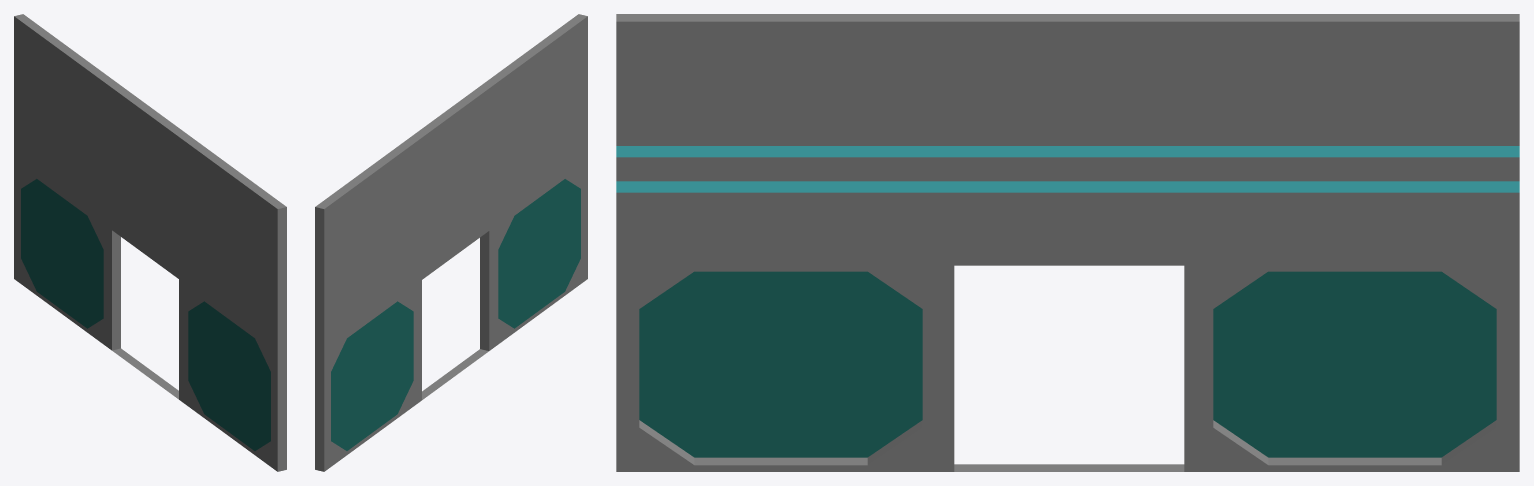
The model's file is parede-LAB1.fbx.
The picture shows the model from 3 angles, left to right: view 1: azimuth 30°, elevation 25°; view 2: azimuth 150°, elevation 25°; view 3: azimuth 270°, elevation 25°; orthographic projection. The views are drawn at different scales.
Parts seen in each view (by area): view 1: Cube.001; view 2: Cube.001; view 3: Cube.001.
Part boxes in pixels (<box>): Cube.001: <box>14,14,286,471</box>; Cube.001: <box>315,14,587,471</box>; Cube.001: <box>616,14,1519,471</box>.
Bounding box in the file's own units: 20 × 550 × 1000.
